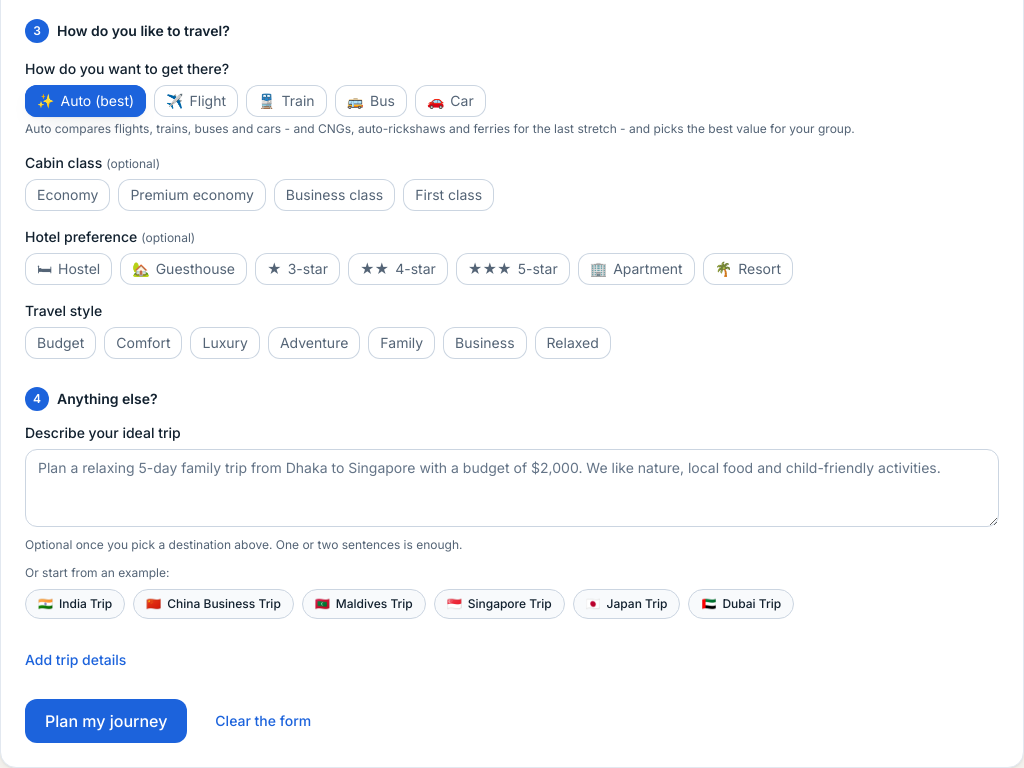
Test: PlannerForm › fills the prompt from a quick example without submitting
(page scrolled)
Click the button "🇯🇵 Japan Trip" at (626, 604), box x1=573 y1=589 x2=680 y2=619
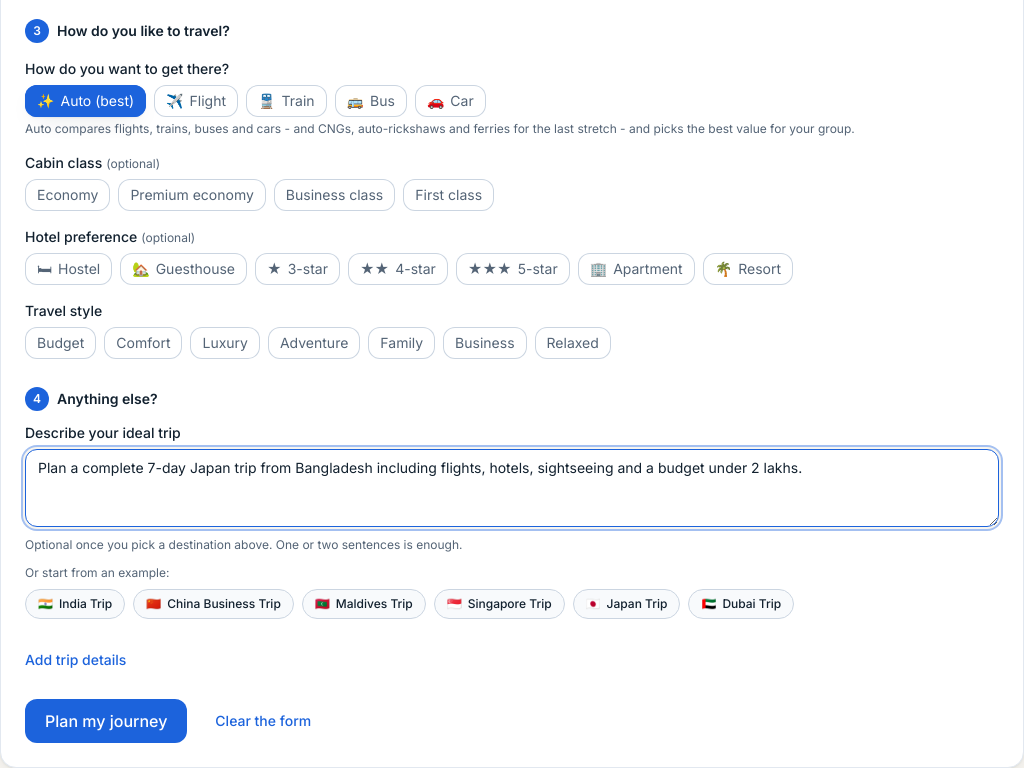
Now the text box labelled "Describe your ideal trip" holds "Plan a complete 7-day Japan trip from Bangladesh including flights, hotels, sightseeing and a budget under 2 lakhs.", box x1=25 y1=449 x2=999 y2=527
